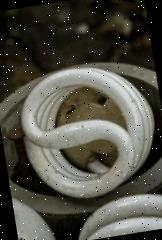lightbulb: (12, 56, 162, 207), (67, 187, 162, 240), (11, 189, 58, 240)
